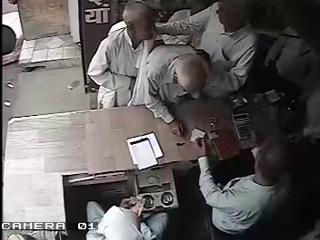Normal: (194, 132, 294, 240), (153, 0, 260, 100), (131, 44, 210, 134), (90, 195, 167, 240)
shoplifting: (87, 2, 156, 110)
